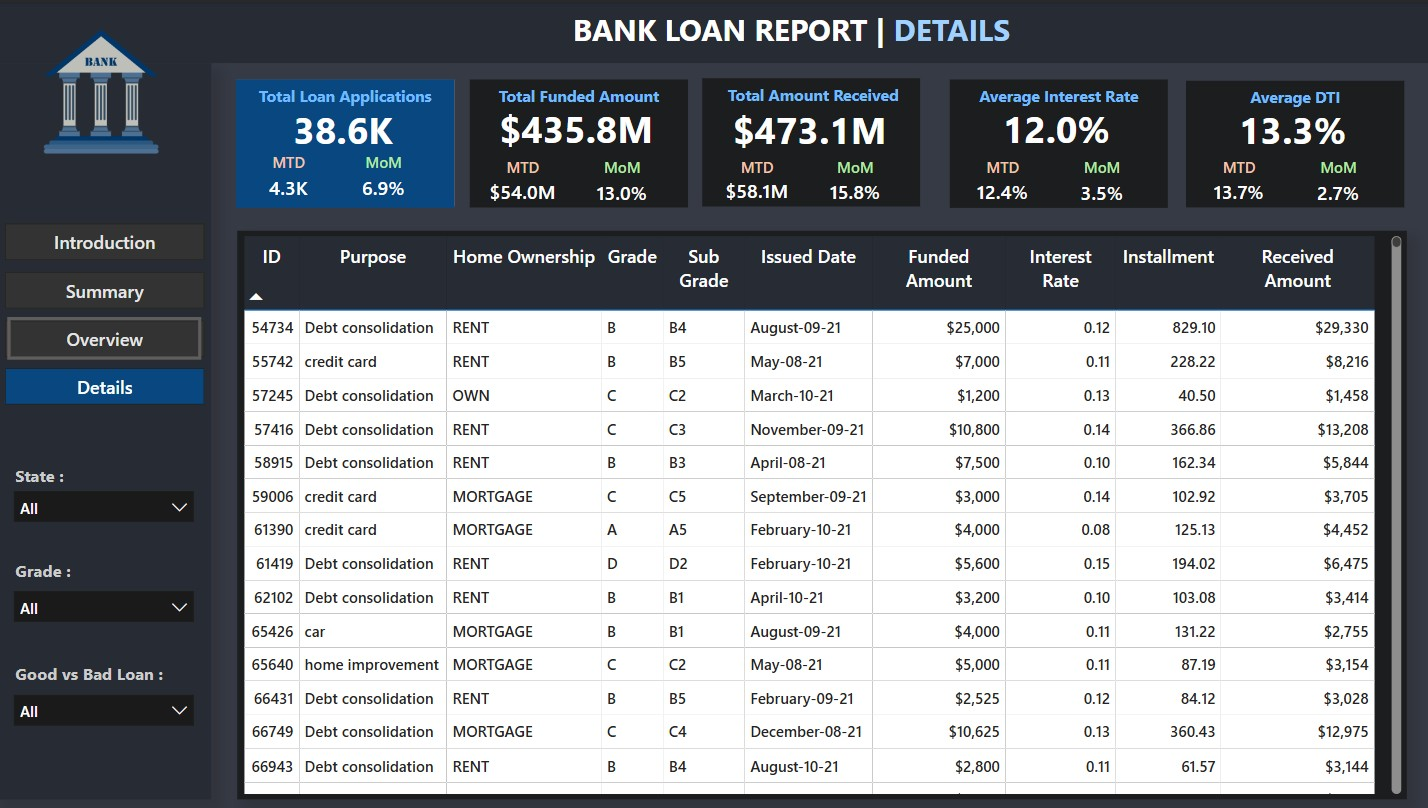

The dashboard page shown, as its layout file describes it:
{"tool":"powerbi","page":{"name":"Details","canvas":[1280,720],"ordinal":3},"visuals":[{"type":"shape","box":[629.1,68,194,114.2],"z":0,"group":"g3"},{"type":"shape","box":[214.3,68.6,194.3,114.3],"z":0,"group":"g1"},{"type":"shape","box":[421.4,68.6,194.5,114],"z":0,"group":"g2"},{"type":"shape","box":[848.8,68.6,194.2,114.3],"z":0,"group":"g4"},{"type":"shape","box":[1059.3,69.8,194.5,113.1],"z":0,"group":"g5"},{"type":"shape","box":[214.7,203.7,1041.9,506.5],"z":0},{"type":"shape","box":[0,0,1280.2,54.7],"z":1000},{"type":"card","fields":{"Values":["table_measures.total_loan_appl"]},"box":[247.2,83.2,124.3,61.3],"z":1000,"group":"g1"},{"type":"card","fields":{"Values":["table_measures.total_funded_amt"]},"box":[433.2,83.2,165.9,58.4],"z":1000,"group":"g2"},{"type":"card","fields":{"Values":["table_measures.avg_interest_rate"]},"box":[860.6,83.2,165.6,58.6],"z":1000,"group":"g4"},{"type":"card","fields":{"Values":["table_measures.avg_DTI"]},"box":[1071.1,84.3,165.9,57.9],"z":1000,"group":"g5"},{"type":"card","fields":{"Values":["table_measures.total_received_amt"]},"box":[643.1,86.1,163.1,55.8],"z":1000,"group":"g3"},{"type":"shape","box":[0,54.7,191.9,655.8],"z":2000},{"type":"textbox","box":[632.1,67.8,191,41.6],"z":2000,"group":"g3"},{"type":"textbox","box":[214.3,68.6,194.3,39],"z":2000,"group":"g1"},{"type":"textbox","box":[421.4,68.6,194.5,38.9],"z":2000,"group":"g2"},{"type":"textbox","box":[848.8,68.6,194.2,39],"z":2000,"group":"g4"},{"type":"textbox","box":[1059.3,69.8,194.5,38.6],"z":2000,"group":"g5"},{"type":"card","title":"MTD","fields":{"Values":["table_measures.MTD_loan_appl"]},"box":[235.7,132.7,51.4,50.2],"z":3000,"group":"g1"},{"type":"card","title":"MTD","fields":{"Values":["table_measures.MTD_funded_amt"]},"box":[433.2,137.4,70.1,48.6],"z":3000,"group":"g2"},{"type":"card","title":"MTD","fields":{"Values":["table_measures.MTD_interest_rate"]},"box":[860.6,137.6,70,48.8],"z":3000,"group":"g4"},{"type":"card","title":"MTD","fields":{"Values":["table_measures.MTD_received_amt"]},"box":[643.1,137.9,68.9,46.5],"z":3000,"group":"g3"},{"type":"card","title":"MTD","fields":{"Values":["table_measures.MTD_avg_DTI"]},"box":[1071.1,138.1,70.1,48.3],"z":3000,"group":"g5"},{"type":"textbox","box":[12.4,406,119.7,38.5],"z":3000},{"type":"textbox","box":[509.2,1.4,447.3,49.5],"z":4000},{"type":"card","title":"MoM","fields":{"Values":["table_measures.MOM_loan_appl"]},"box":[320,132.7,51.4,50.2],"z":4000,"group":"g1"},{"type":"card","title":"MoM","fields":{"Values":["table_measures.MOM_funded_amt"]},"box":[528.3,137.2,57.8,49.7],"z":4000,"group":"g2"},{"type":"card","title":"MoM","fields":{"Values":["table_measures.MOM_interest_rate"]},"box":[955.6,137.4,57.7,49.8],"z":4000,"group":"g4"},{"type":"card","title":"MoM","fields":{"Values":["table_measures.MOM_received_amt"]},"box":[736.6,137.7,56.8,47.5],"z":4000,"group":"g3"},{"type":"card","title":"MoM","fields":{"Values":["table_measures.MOM_avg_DTI"]},"box":[1166.2,137.9,57.8,49.3],"z":4000,"group":"g5"},{"type":"group","id":"g1","title":"Group 1","box":[214.3,68.6,194.3,114.3],"z":5000},{"type":"group","id":"g2","title":"Group 1","box":[421.4,68.6,194.5,118.2],"z":6000},{"type":"group","id":"g3","title":"Group 1","box":[629.1,67.8,194,117.4],"z":7000},{"type":"group","id":"g4","title":"Group 1","box":[848.8,68.6,194.2,118.6],"z":8000},{"type":"group","id":"g5","title":"Group 1","box":[1059.3,69.8,194.2,117.4],"z":9000},{"type":"slicer","fields":{"Values":["financial_loan.address_state"]},"box":[5.5,425.3,180.3,50.9],"z":10000},{"type":"slicer","fields":{"Values":["financial_loan.grade"]},"box":[5.5,514.8,180.3,50.9],"z":11000},{"type":"textbox","box":[12.4,491.4,119.7,38.5],"z":12000},{"type":"slicer","fields":{"Values":["financial_loan.Good vs Band Loan"]},"box":[5.5,607,180.3,50.9],"z":13000},{"type":"textbox","box":[12.4,583.6,163.8,38.5],"z":14000},{"type":"tableEx","fields":{"Values":["financial_loan.id","financial_loan.purpose","financial_loan.home_ownership","financial_loan.grade","financial_loan.sub_grade","financial_loan.issue_date","table_measures.total_funded_amt","Sum(financial_loan.int_rate)","Sum(financial_loan.installment)","table_measures.total_received_amt"]},"box":[214.7,203.7,1041.9,506.5],"z":15000},{"type":"pageNavigator","box":[8.3,196.8,178.9,163.8],"z":16000},{"type":"image","box":[0,1.4,187.2,156.9],"z":17000},{"type":"actionButton","box":[9.8,281,173,38],"z":18000},{"type":"actionButton","box":[9.8,238,173,31.9],"z":18001},{"type":"qnaVisual","box":[1130,54.7,150,655.8],"z":18002}]}

Visuals, with their boxes on the page's 1280x720 design canvas (x1, y1, x2, y2). These are canvas units, not pixel positions in the 1428x808 screenshot, which may show the page scaled, cropped or inside an application window:
shape: bbox=[629, 68, 823, 182]
shape: bbox=[214, 69, 409, 183]
shape: bbox=[421, 69, 616, 183]
shape: bbox=[849, 69, 1043, 183]
shape: bbox=[1059, 70, 1254, 183]
shape: bbox=[215, 204, 1257, 710]
shape: bbox=[0, 0, 1280, 55]
card - table_measures.total_loan_appl: bbox=[247, 83, 372, 144]
card - table_measures.total_funded_amt: bbox=[433, 83, 599, 142]
card - table_measures.avg_interest_rate: bbox=[861, 83, 1026, 142]
card - table_measures.avg_DTI: bbox=[1071, 84, 1237, 142]
card - table_measures.total_received_amt: bbox=[643, 86, 806, 142]
shape: bbox=[0, 55, 192, 710]
textbox: bbox=[632, 68, 823, 109]
textbox: bbox=[214, 69, 409, 108]
textbox: bbox=[421, 69, 616, 108]
textbox: bbox=[849, 69, 1043, 108]
textbox: bbox=[1059, 70, 1254, 108]
"MTD" card: bbox=[236, 133, 287, 183]
"MTD" card: bbox=[433, 137, 503, 186]
"MTD" card: bbox=[861, 138, 931, 186]
"MTD" card: bbox=[643, 138, 712, 184]
"MTD" card: bbox=[1071, 138, 1141, 186]
textbox: bbox=[12, 406, 132, 444]
textbox: bbox=[509, 1, 956, 51]
"MoM" card: bbox=[320, 133, 371, 183]
"MoM" card: bbox=[528, 137, 586, 187]
"MoM" card: bbox=[956, 137, 1013, 187]
"MoM" card: bbox=[737, 138, 793, 185]
"MoM" card: bbox=[1166, 138, 1224, 187]
"Group 1" group: bbox=[214, 69, 409, 183]
"Group 1" group: bbox=[421, 69, 616, 187]
"Group 1" group: bbox=[629, 68, 823, 185]
"Group 1" group: bbox=[849, 69, 1043, 187]
"Group 1" group: bbox=[1059, 70, 1254, 187]
slicer - financial_loan.address_state: bbox=[6, 425, 186, 476]
slicer - financial_loan.grade: bbox=[6, 515, 186, 566]
textbox: bbox=[12, 491, 132, 530]
slicer - financial_loan.Good vs Band Loan: bbox=[6, 607, 186, 658]
textbox: bbox=[12, 584, 176, 622]
tableEx - financial_loan.id x financial_loan.purpose: bbox=[215, 204, 1257, 710]
pageNavigator: bbox=[8, 197, 187, 361]
image: bbox=[0, 1, 187, 158]
actionButton: bbox=[10, 281, 183, 319]
actionButton: bbox=[10, 238, 183, 270]
qnaVisual: bbox=[1130, 55, 1280, 710]
